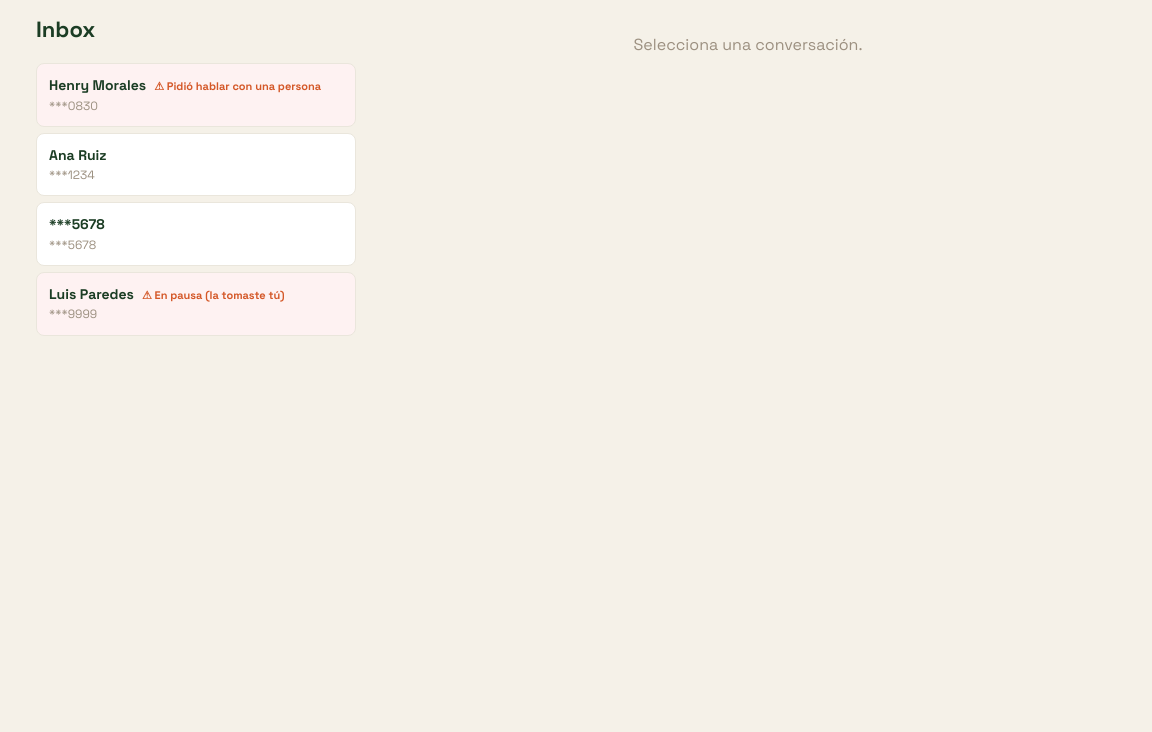
Test: Inbox (T-H4.1) › send box: on API error shows an inline error and does NOT clear the input
Expected: the number of buttons with test id "conv-row" is 4, [36,63,356,127]; [36,133,356,196]; [36,202,356,266]; [36,272,356,336]
Click the text "Ana Ruiz".
click(78, 155)  # box [49,146,107,164]
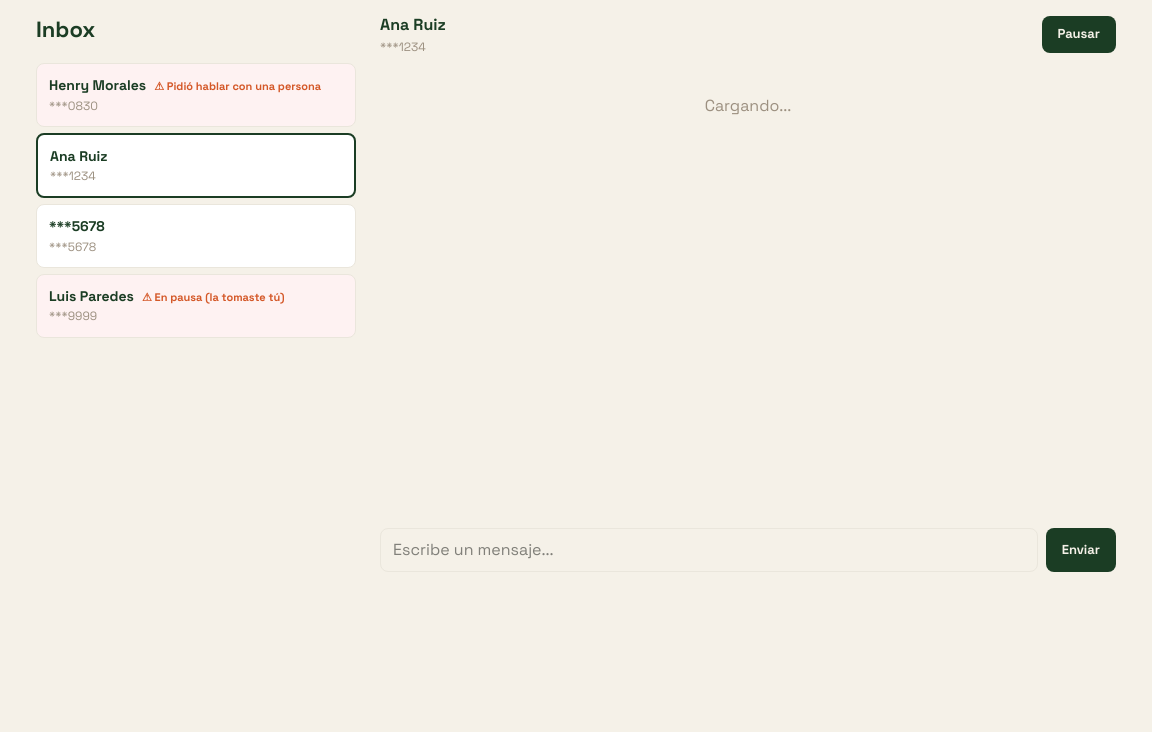
Expected: the field with placeholder "Escribe un mensaje..." is shown
Type "Hola, ya reviso tu caso" into the field with placeholder "Escribe un mensaje...".
click(709, 550); type("Hola, ya reviso tu caso")  # box [380,528,1038,572]
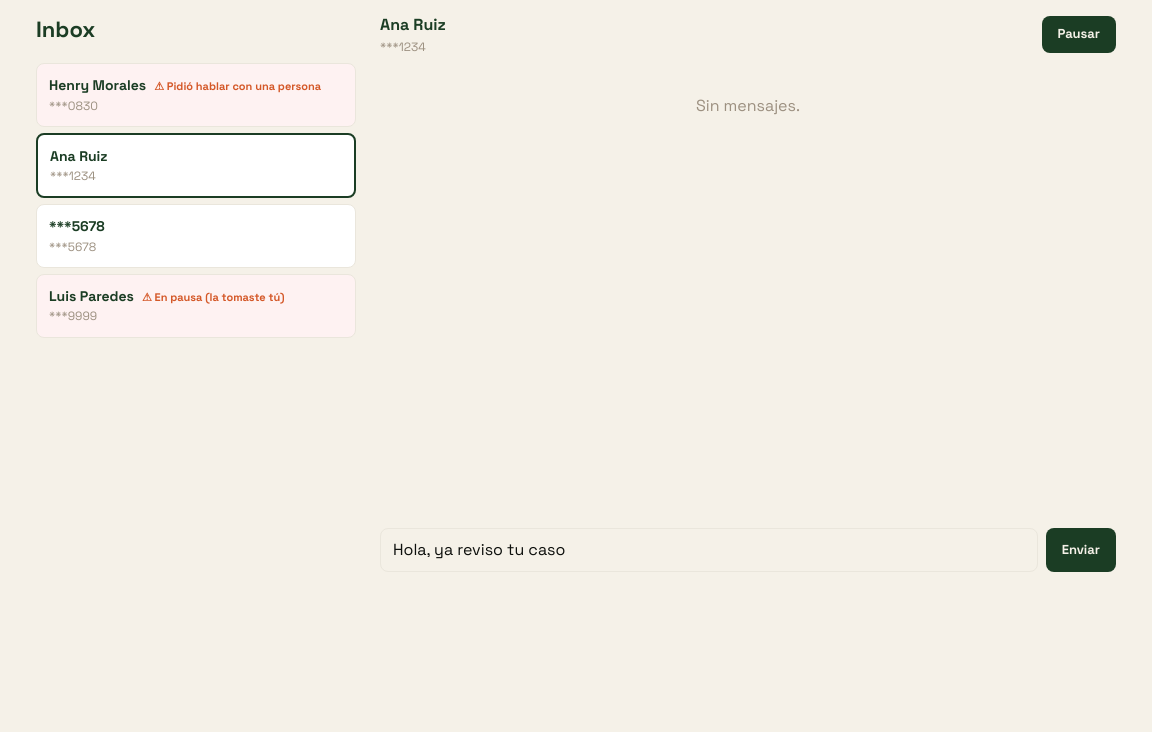
Click the button "Enviar".
click(1081, 550)  # box [1046,528,1116,572]
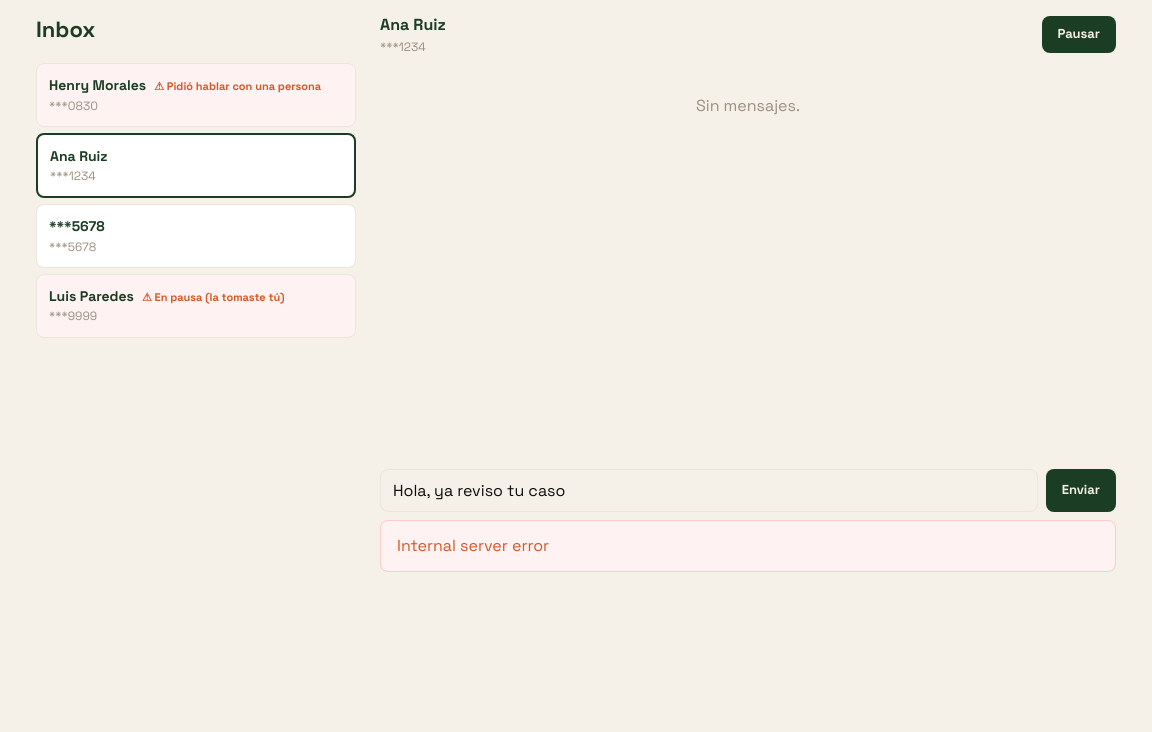
Expected: the text "Internal server error" is shown, [380,520,1116,572]
